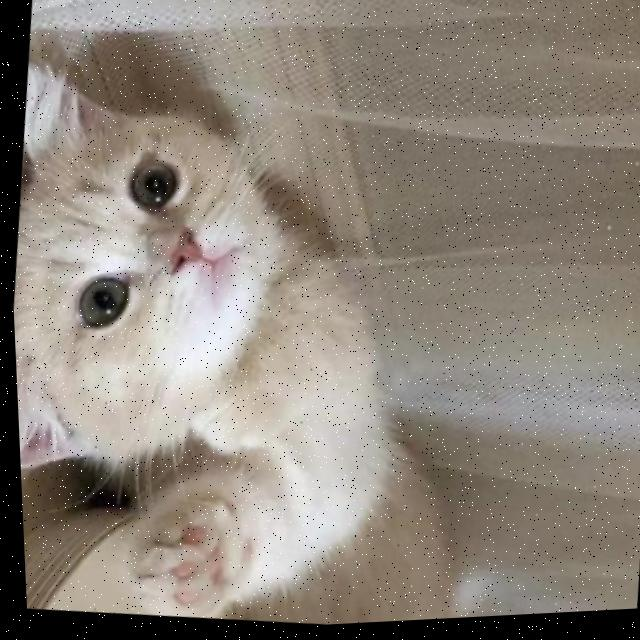Cats: (2, 39, 438, 640)
